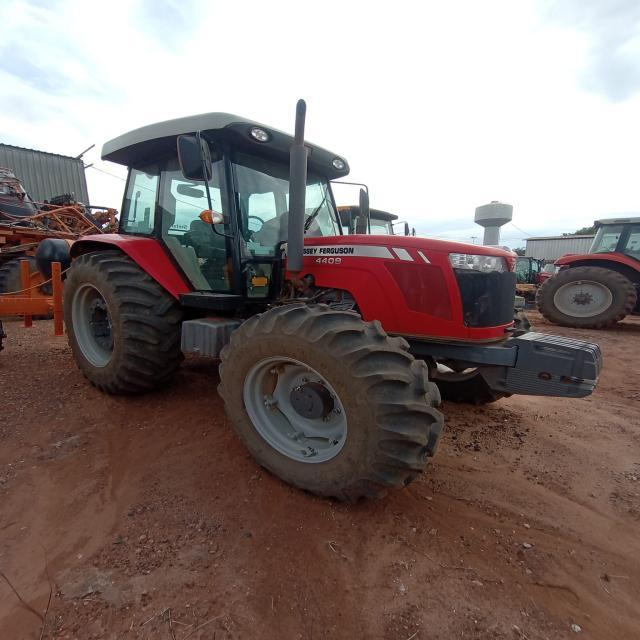Tratores - v5 YOLO V8L 2024-11-13: (63, 92, 597, 510), (538, 216, 640, 335)
